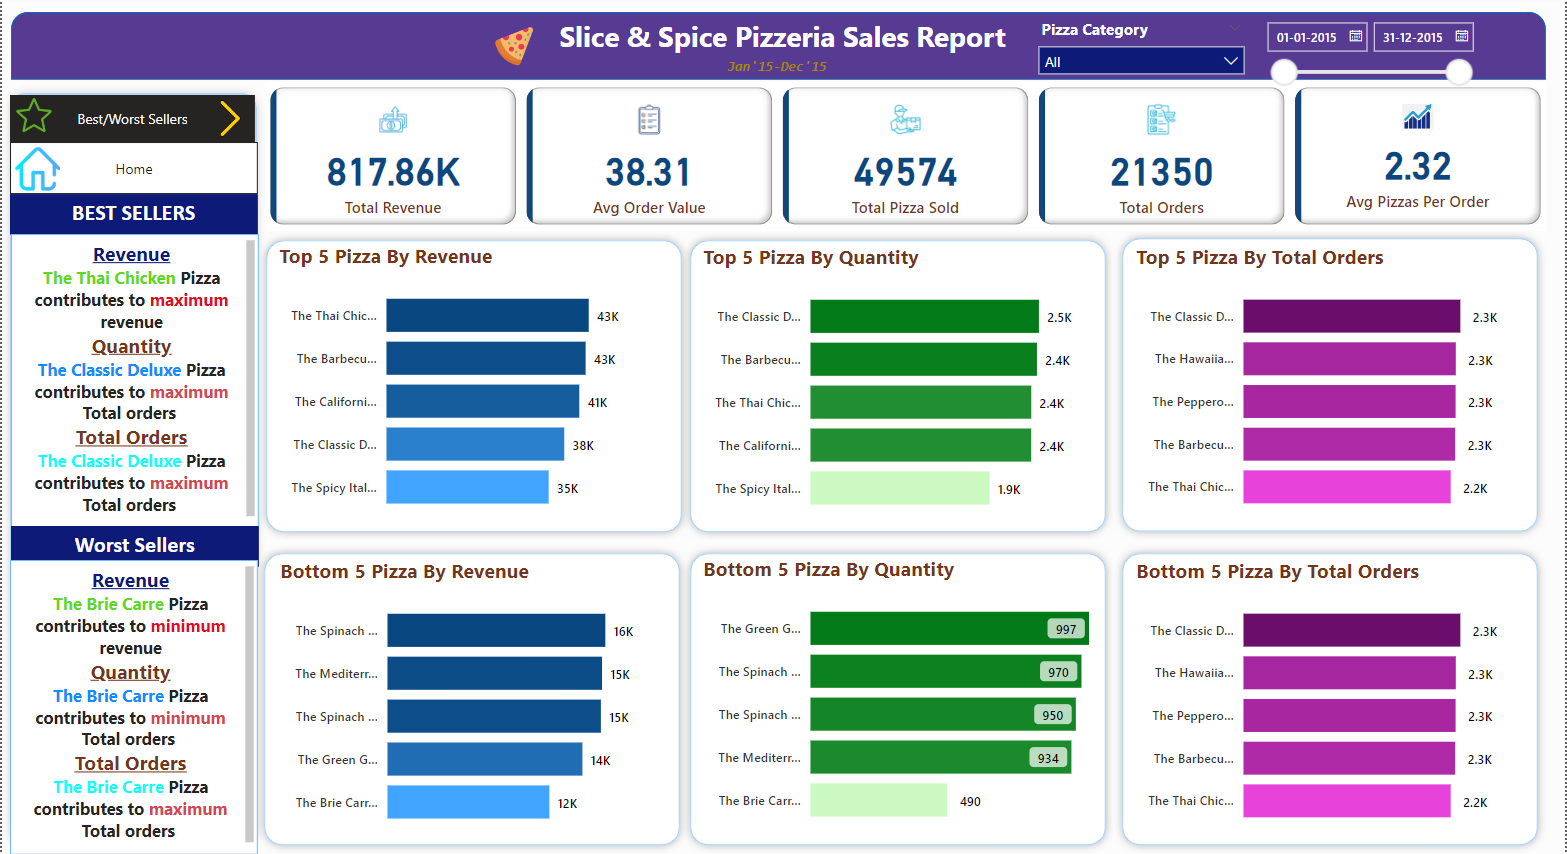

This screenshot's page, from the dashboard's own definition file:
{"tool":"powerbi","page":{"name":"Best/Worst Sellers","canvas":[1500,820],"ordinal":1},"visuals":[{"type":"cardVisual","fields":{"Data":["firstdb pizza_sales.Total Revenue","firstdb pizza_sales.Avg Order Value","firstdb pizza_sales.Total Pizza Sold","firstdb pizza_sales.Total Orders","firstdb pizza_sales.Avg Pizzas Per Order"]},"box":[252.5,78.8,1230,142.5],"z":0},{"type":"shape","box":[8.8,11.2,1473.8,65],"z":1000},{"type":"textbox","box":[492.5,11.2,513.8,52.5],"z":2000},{"type":"textbox","box":[691.2,48.8,117.5,30],"z":3000},{"type":"image","box":[465,20,53.8,47.5],"z":4000},{"type":"shape","box":[246.2,222.5,415,296.2],"z":5000},{"type":"shape","box":[0,81.2,252.5,738.8],"z":6000},{"type":"textbox","box":[7.5,186.2,237.5,38.8],"z":7000},{"type":"textbox","box":[8.8,225,237.5,282.5],"z":8000},{"type":"textbox","box":[8.8,505,237.5,38.8],"z":9000},{"type":"slicer","title":"Pizza","fields":{"Values":["firstdb pizza_sales.pizza_category"]},"box":[985,12.5,217.5,61.2],"z":10000},{"type":"slicer","title":"Pizza","fields":{"Values":["firstdb pizza_sales.order_date"]},"box":[1202.5,11.2,217.5,100],"z":11000},{"type":"shape","box":[652.5,222.5,415,296.2],"z":12000},{"type":"shape","box":[1067.5,221.2,415,297.5],"z":13000},{"type":"shape","box":[243.8,523.8,415,296.2],"z":14000},{"type":"shape","box":[652.5,523.8,415,296.2],"z":15000},{"type":"shape","box":[1067.5,523.8,415,296.2],"z":16000},{"type":"barChart","title":"Top 5 Pizza By Revenue","fields":{"Category":["firstdb pizza_sales.pizza_name"],"Y":["firstdb pizza_sales.Total Revenue"]},"box":[261.2,232.5,381.2,273.8],"z":17000},{"type":"barChart","title":"Bottom 5 Pizza By Revenue","fields":{"Category":["firstdb pizza_sales.pizza_name"],"Y":["firstdb pizza_sales.Total Revenue"]},"box":[262.5,535,381.2,273.8],"z":18000},{"type":"barChart","title":"Top 5 Pizza By Quantity","fields":{"Category":["firstdb pizza_sales.pizza_name"],"Y":["firstdb pizza_sales.Total Pizza Sold"]},"box":[668.8,233.8,381.2,273.8],"z":19000},{"type":"barChart","title":"Bottom 5 Pizza By Quantity","fields":{"Category":["firstdb pizza_sales.pizza_name"],"Y":["firstdb pizza_sales.Total Pizza Sold"]},"box":[668.8,532.5,381.2,273.8],"z":20000},{"type":"barChart","title":"Top 5 Pizza By Total Orders","fields":{"Category":["firstdb pizza_sales.pizza_name"],"Y":["firstdb pizza_sales.Total Orders"]},"box":[1083.8,233.8,381.2,272.5],"z":21000},{"type":"barChart","title":"Bottom 5 Pizza By Total Orders","fields":{"Category":["firstdb pizza_sales.pizza_name"],"Y":["firstdb pizza_sales.Total Orders"]},"box":[1083.8,535,381.2,272.5],"z":22000},{"type":"textbox","box":[7.5,537.5,237.5,282.5],"z":23000},{"type":"image","box":[176.2,91.2,85,45],"z":24000},{"type":"image","box":[8.8,88.8,43.8,43.8],"z":25000},{"type":"actionButton","title":"Go To Best/Worst Sellers","box":[9.2,89.1,232.6,60.5],"z":26000},{"type":"actionButton","title":"Go To Home","box":[9.2,145.5,232.6,42],"z":27000}]}

Visuals, with their boxes in screenshot pixels (x1, y1, x2, y2), scaled from the page's 1500x820 canvas onto the 1567x854 screenshot:
cardVisual - firstdb pizza_sales.Total Revenue x firstdb pizza_sales.Avg Order Value: left=264, top=82, right=1549, bottom=230
shape: left=9, top=12, right=1549, bottom=79
textbox: left=514, top=12, right=1051, bottom=66
textbox: left=722, top=51, right=845, bottom=82
image: left=486, top=21, right=542, bottom=70
shape: left=257, top=232, right=691, bottom=540
shape: left=0, top=85, right=264, bottom=853
textbox: left=8, top=194, right=256, bottom=234
textbox: left=9, top=234, right=257, bottom=529
textbox: left=9, top=526, right=257, bottom=566
"Pizza" slicer: left=1029, top=13, right=1256, bottom=77
"Pizza" slicer: left=1256, top=12, right=1483, bottom=116
shape: left=682, top=232, right=1115, bottom=540
shape: left=1115, top=230, right=1549, bottom=540
shape: left=255, top=546, right=688, bottom=853
shape: left=682, top=546, right=1115, bottom=853
shape: left=1115, top=546, right=1549, bottom=853
"Top 5 Pizza By Revenue" barChart: left=273, top=242, right=671, bottom=527
"Bottom 5 Pizza By Revenue" barChart: left=274, top=557, right=672, bottom=842
"Top 5 Pizza By Quantity" barChart: left=699, top=243, right=1097, bottom=529
"Bottom 5 Pizza By Quantity" barChart: left=699, top=555, right=1097, bottom=840
"Top 5 Pizza By Total Orders" barChart: left=1132, top=243, right=1530, bottom=527
"Bottom 5 Pizza By Total Orders" barChart: left=1132, top=557, right=1530, bottom=841
textbox: left=8, top=560, right=256, bottom=853
image: left=184, top=95, right=273, bottom=142
image: left=9, top=92, right=55, bottom=138
"Go To Best/Worst Sellers" actionButton: left=10, top=93, right=253, bottom=156
"Go To Home" actionButton: left=10, top=152, right=253, bottom=195
